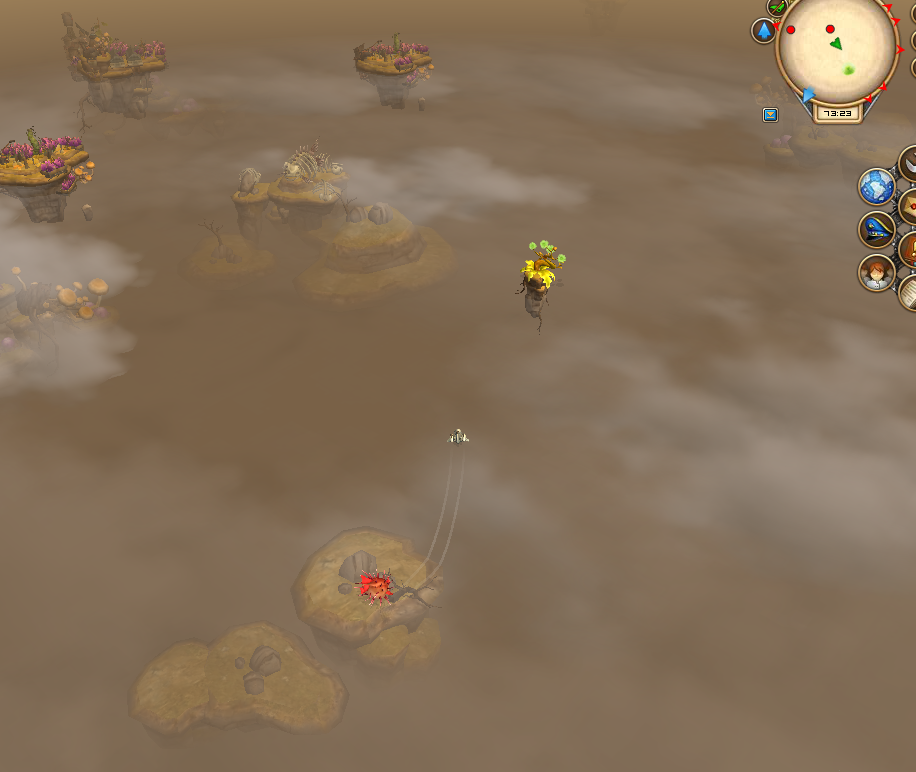dandelion-full: (514, 235, 569, 325)
